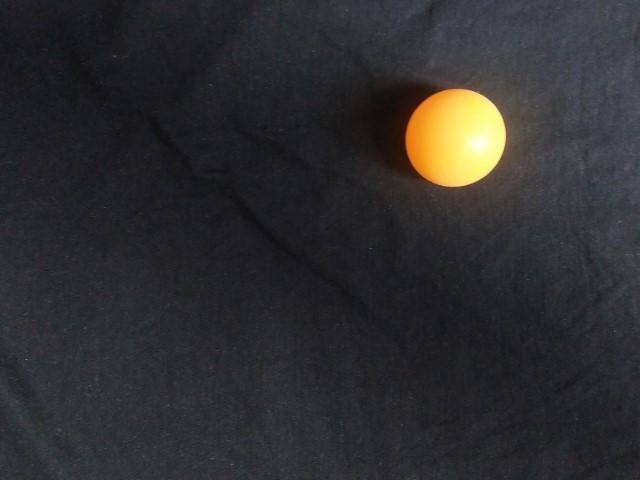oball: (129, 286, 241, 399)
